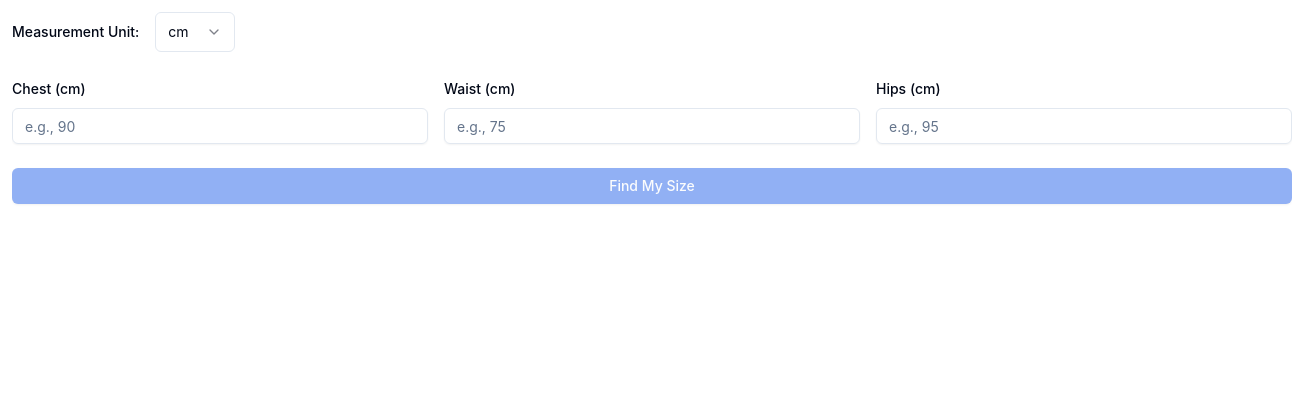
Test: FitFinder › should find size based on hip measurement
Type "100" into the number field with test id "input-hips". click: (1084, 126)
box: 876,108 -> 1292,144
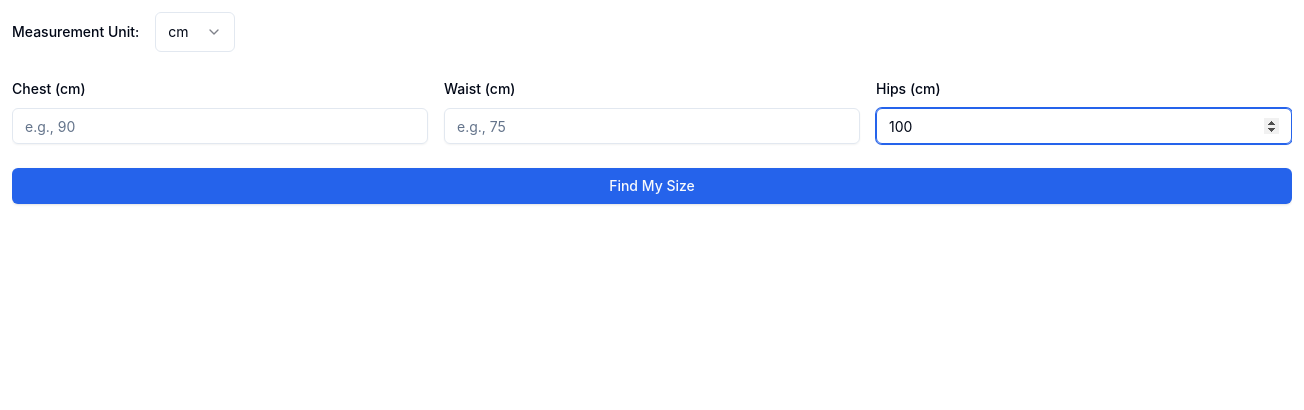
Click the button with test id "find-size-button". click: (652, 186)
box: 12,168 -> 1292,204
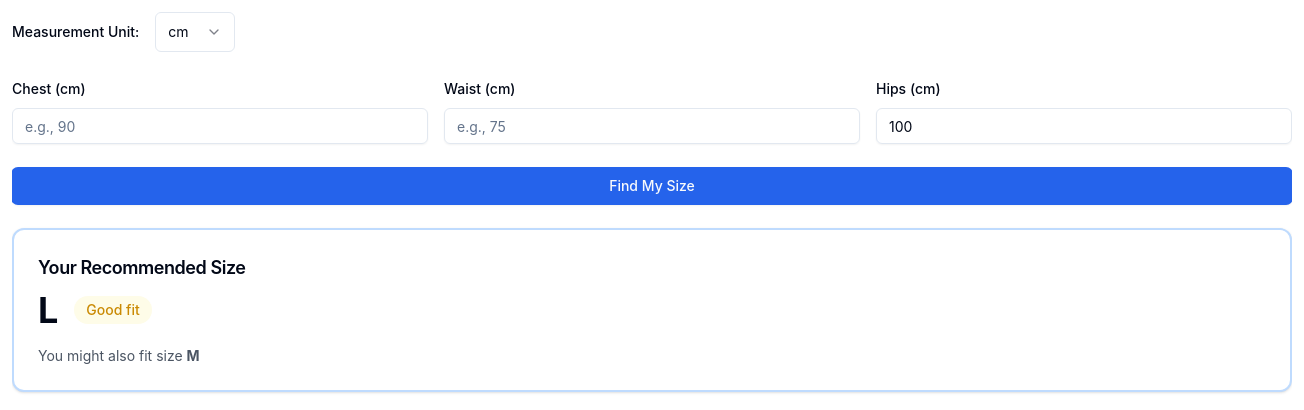
Check: the text with test id "recommended-size" reads "L", box 38,288 -> 58,332
